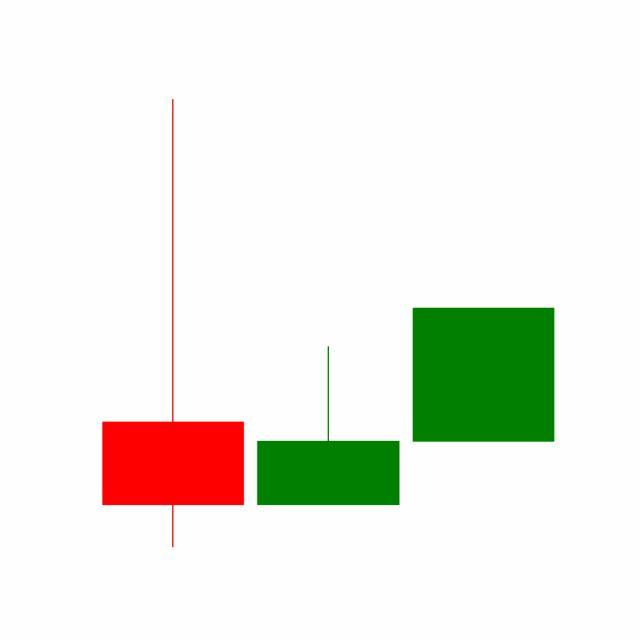Marubozu: (406, 307, 562, 444)
